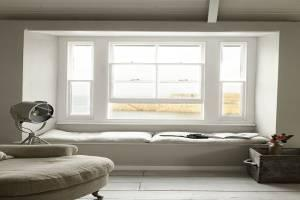window: (63, 39, 253, 125)
